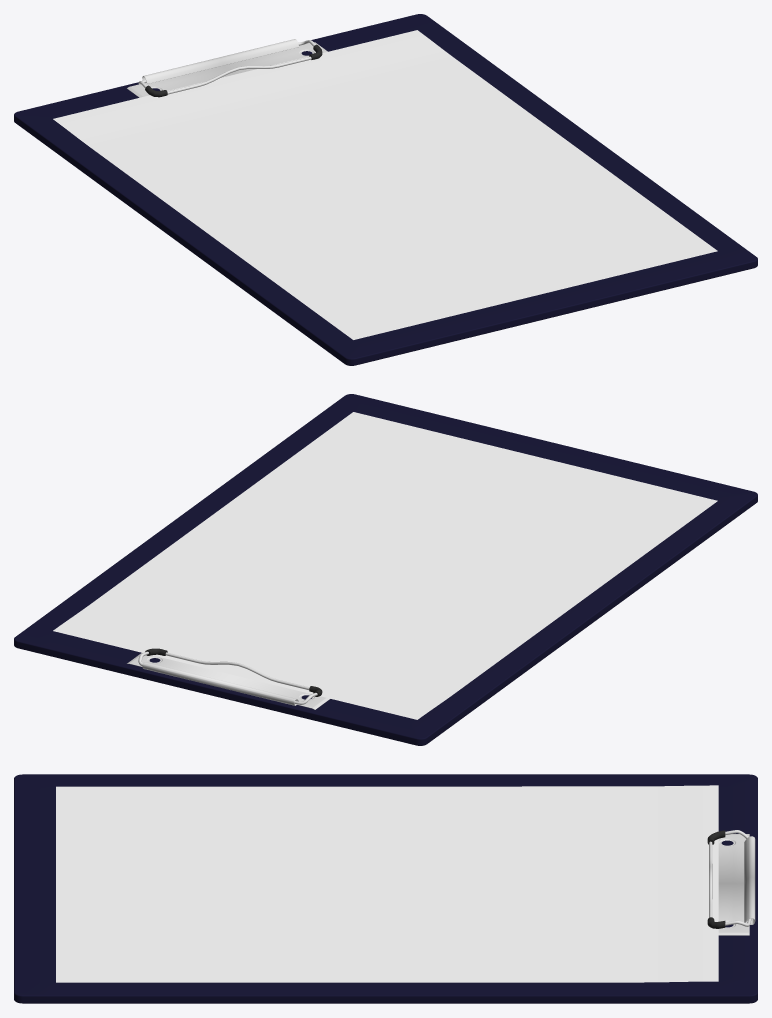
File: clipboard.glb
3 views of the same model, one above another, from view 1: azimuth 30°, elevation 25°; view 2: azimuth 150°, elevation 25°; view 3: azimuth 270°, elevation 25° (orthographic). The views are drawn at different scales.
Visible parts, largest first — view 1: Plane.004, body.001, Plane.003, NurbsPath.003; view 2: Plane.004, body.001, Plane.003, NurbsPath.003; view 3: Plane.004, body.001, Plane.003, NurbsPath.003.
Boxes of the visible parts, box(x1,y1,x2,y2) form: Plane.004: box(53, 30, 717, 339); body.001: box(14, 14, 757, 365); Plane.003: box(127, 39, 327, 97); NurbsPath.003: box(138, 40, 315, 94); Plane.004: box(53, 412, 717, 719); body.001: box(14, 394, 757, 745); Plane.003: box(127, 653, 330, 709); NurbsPath.003: box(138, 651, 317, 704); Plane.004: box(56, 785, 718, 982); body.001: box(14, 774, 757, 1003); Plane.003: box(718, 834, 755, 935); NurbsPath.003: box(709, 830, 751, 926).
Size of the model in its own units: 0.8896 by 0.038 by 1.26.
